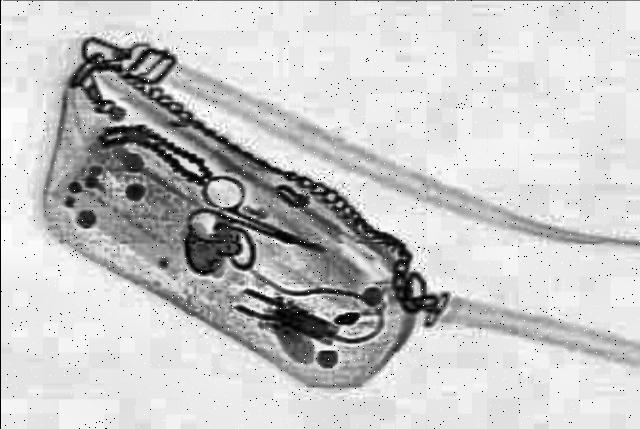Scissors: (163, 167, 351, 272)
